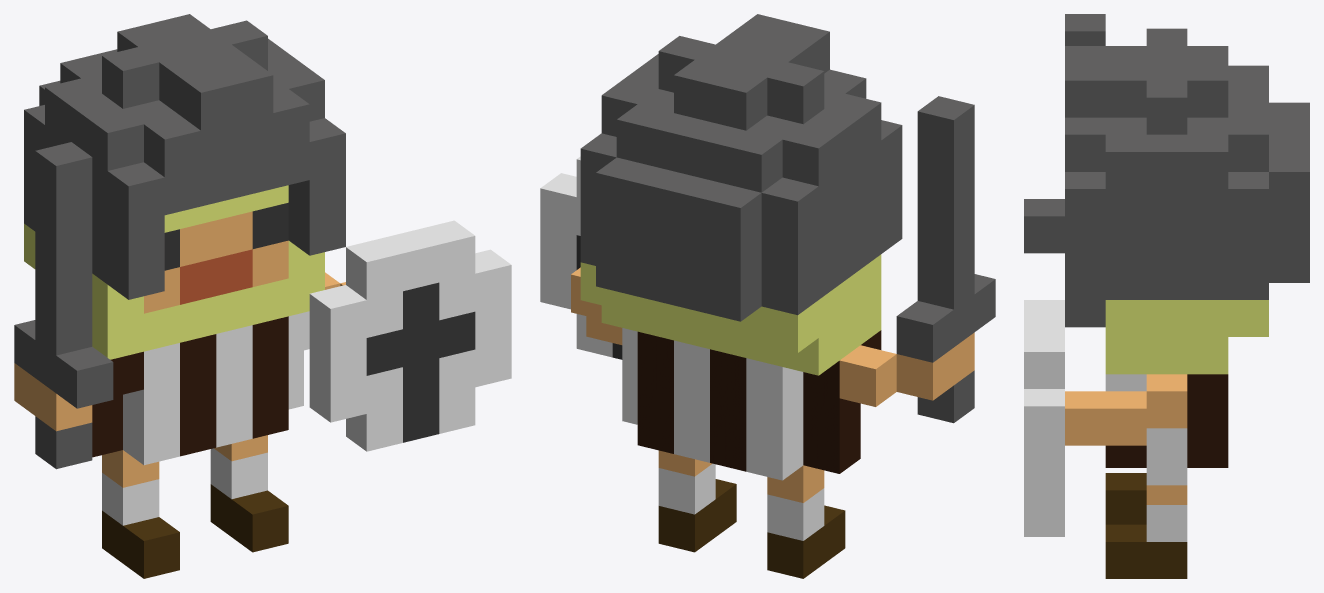
Rendered from Soldier.obj.
3 renders of one model, left to right at view 1: azimuth 30°, elevation 25°; view 2: azimuth 150°, elevation 25°; view 3: azimuth 270°, elevation 25°, orthographic. The views are drawn at different scales.
Size of the model in its own units: 1.2 by 1.3 by 0.7.
Materials: 1 (1 with a texture image).
